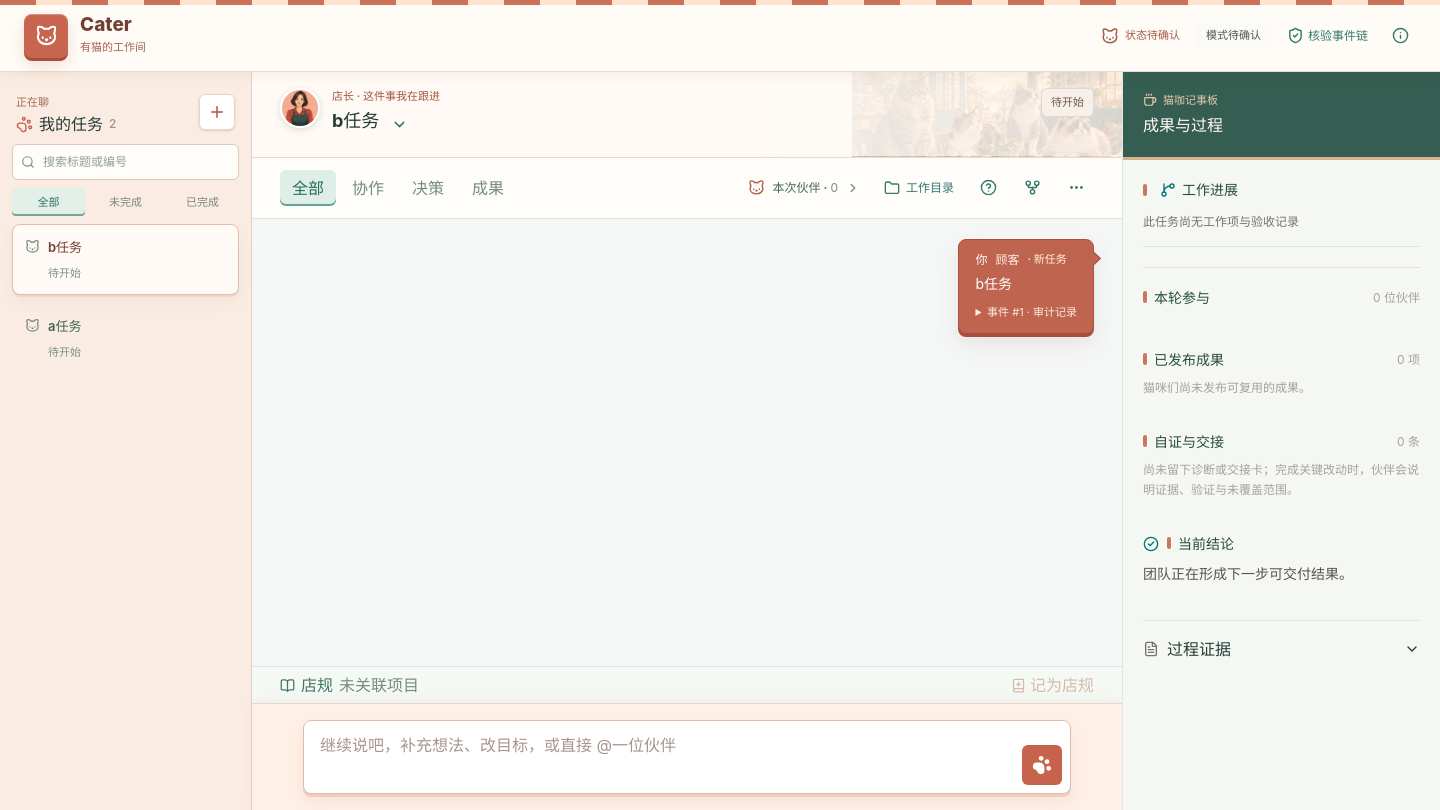
Test: 断网、HTTP错误和409均保留新建 ID；未选择项目时省略 project_id
The image size is (1440, 810).
Click the button named "新建任务" at (217, 112), box [199, 94, 235, 130]
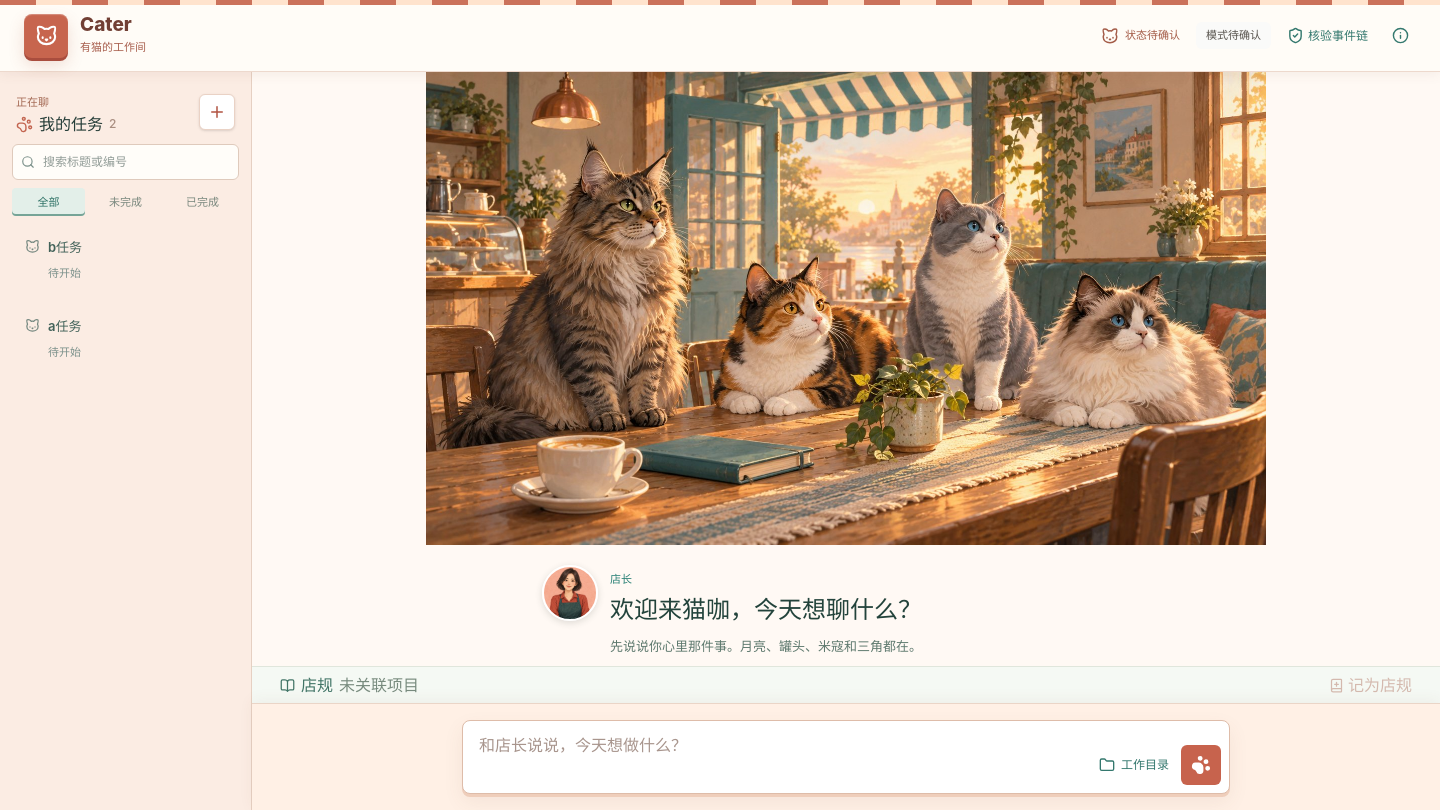
Type "同一任务" into the text box named "发起任务对话" at (777, 757), box [471, 729, 1083, 785]
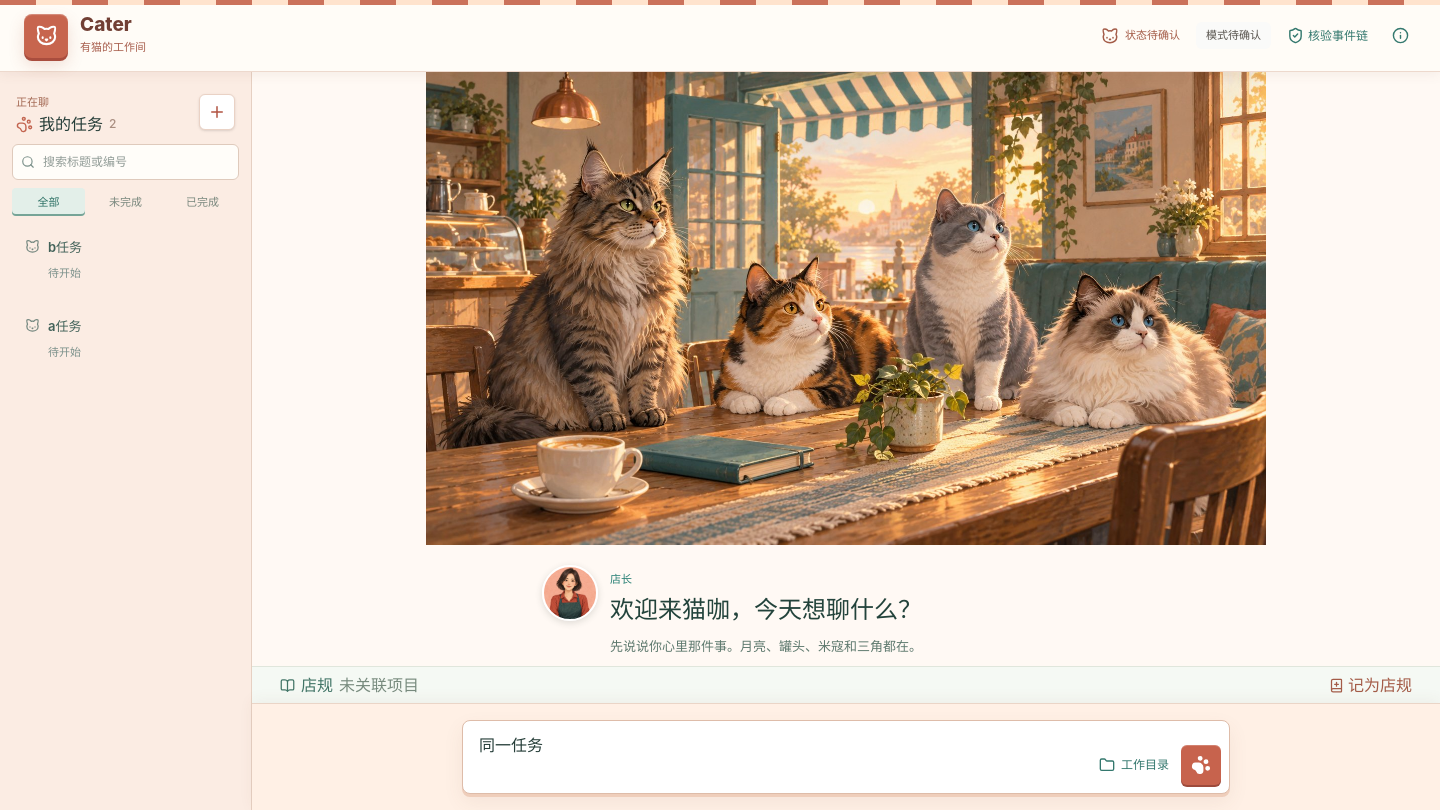
Click the button named "发送新任务" at (1201, 765), box [1181, 745, 1221, 785]
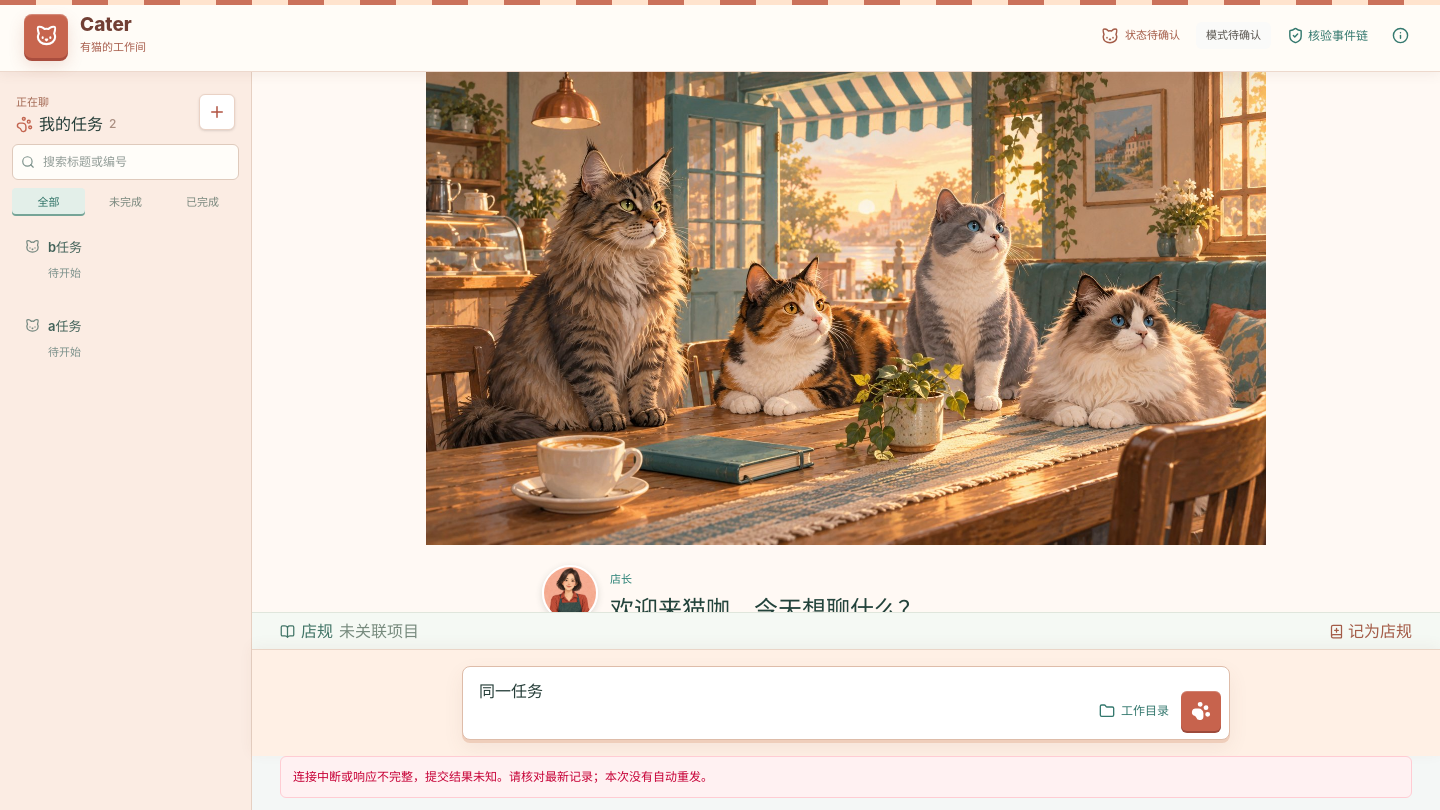
Expected: the message shows "提交结果未知", [293, 769, 713, 784]
Click the button named "发送新任务" at (1201, 711), box [1181, 691, 1221, 731]
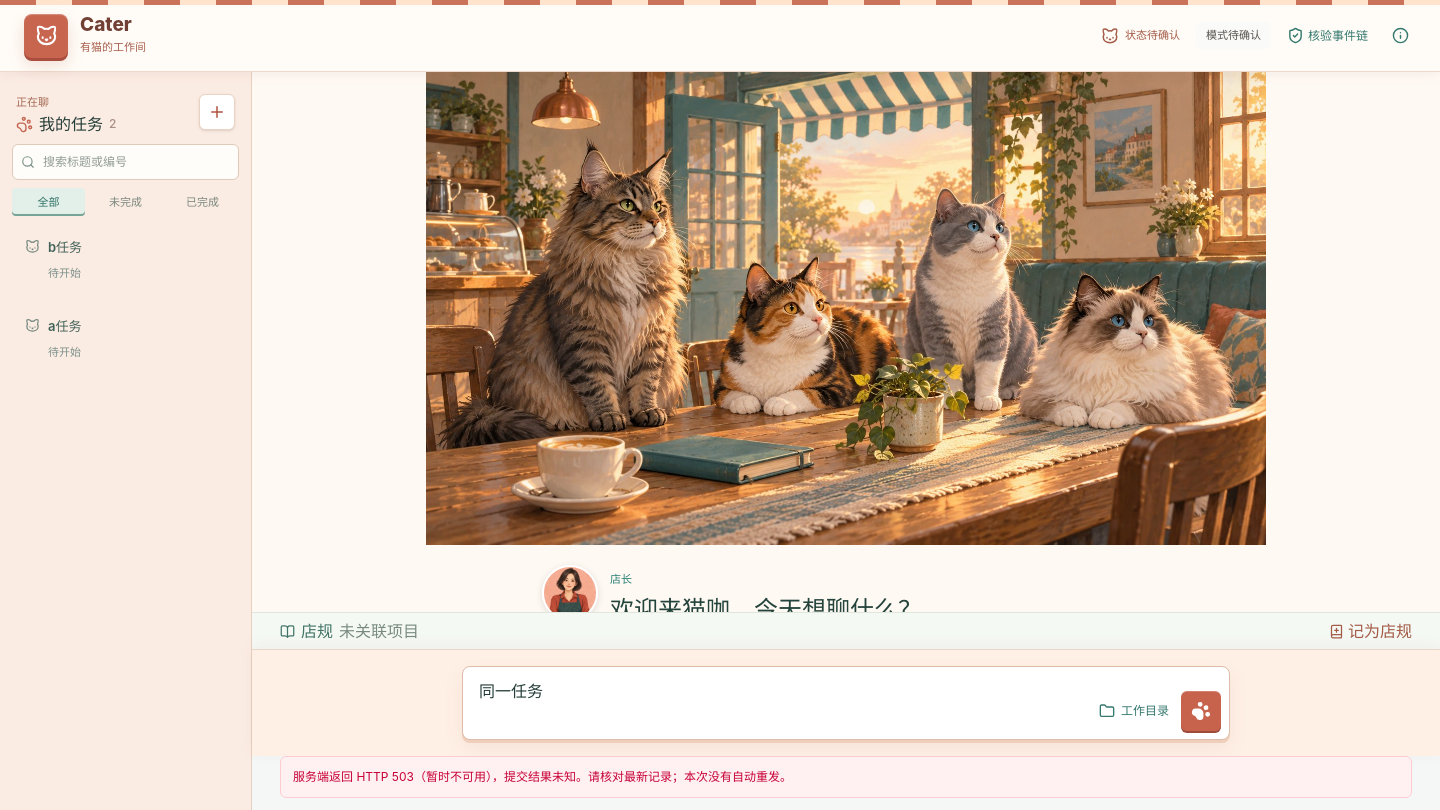
Expected: the message shows "提交结果未知", [293, 769, 792, 784]
Expected: the message shows "暂时不可用", [293, 769, 792, 784]
Click the button named "发送新任务" at (1201, 711), box [1181, 691, 1221, 731]
Wait 30000 ms
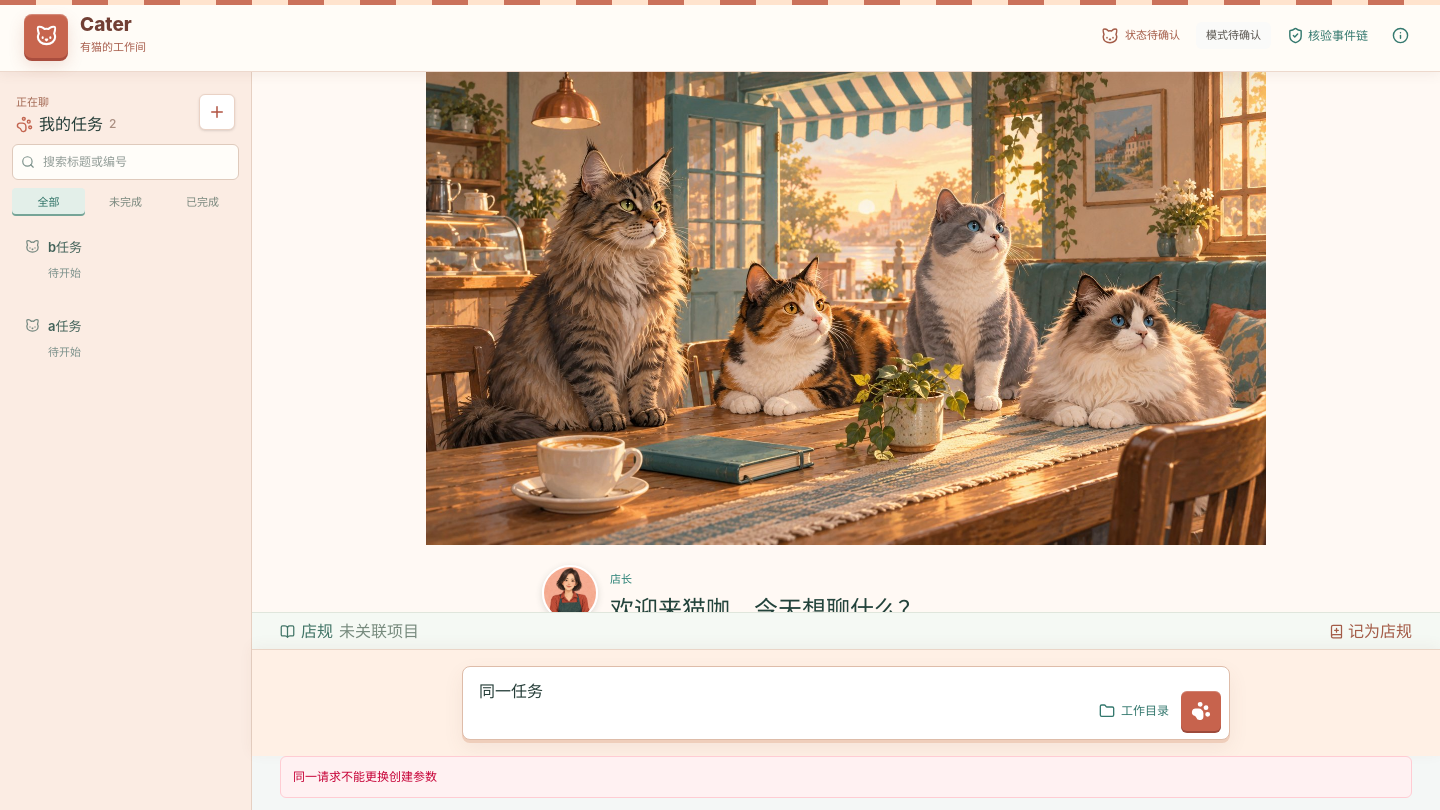
Expected: the message reads "同一请求不能更换创建参数", [293, 769, 437, 784]
